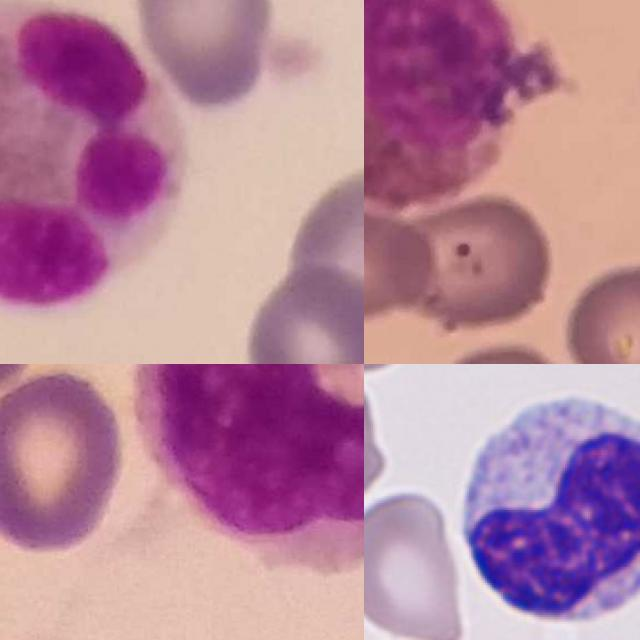Eosinophil: (0, 0, 180, 304), (364, 0, 565, 208)
Lymphocyte: (445, 380, 640, 638)
Monocyte: (134, 364, 364, 571)
RBC: (364, 487, 469, 640)
